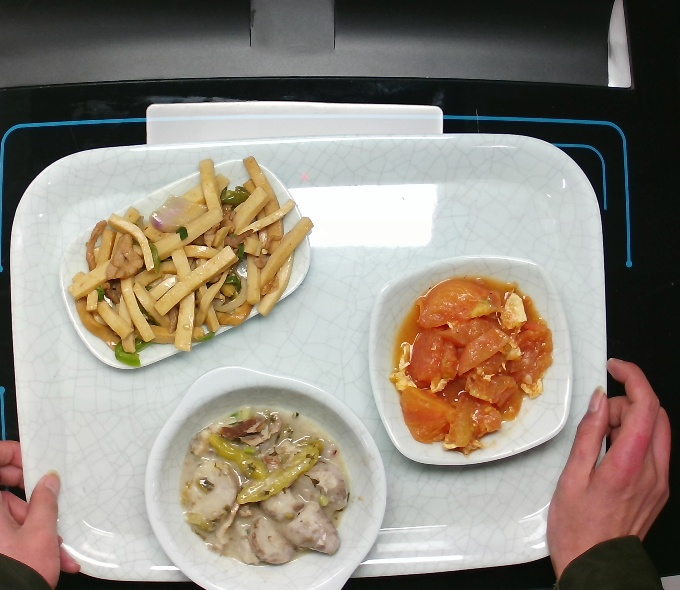wcq-FanQieChaoDan: (388, 275, 564, 458)
wcq-QianYeDouFu: (71, 157, 312, 364)
wcq-YangYu: (177, 407, 377, 573)
